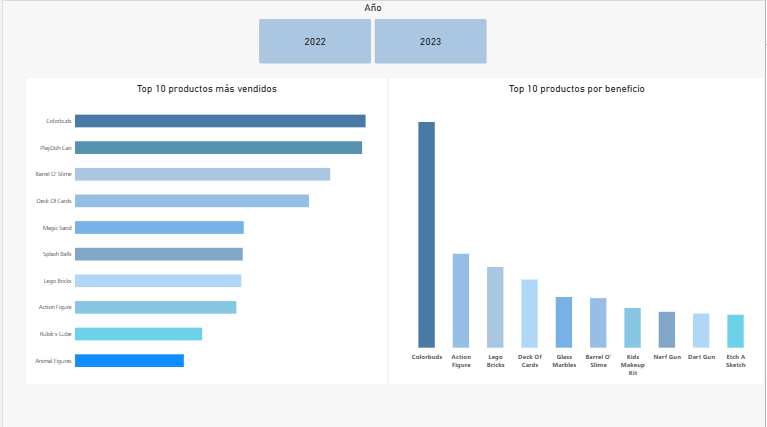

The dashboard page shown, as its layout file describes it:
{"tool":"powerbi","page":{"name":"Producto","canvas":[1920,1080],"ordinal":2},"visuals":[{"type":"barChart","title":"Top 10 productos más vendidos","fields":{"Category":["dataset_final.Product_Name"],"Y":["Sum(dataset_final.Units)"]},"box":[55.4,191.5,914.6,776.1],"z":0},{"type":"advancedSlicerVisual","fields":{"Values":["dataset_final.Año"]},"box":[645,0,574.5,158.7],"z":1},{"type":"columnChart","title":"Top 10 productos por beneficio","fields":{"Category":["dataset_final.Product_Name"],"Y":["Sum(dataset_final.Profit)"]},"box":[970.1,191.5,949.9,776.1],"z":2}]}

Visuals, with their boxes in screenshot pixels (x1, y1, x2, y2), scaled from the page's 1920x1080 canvas onto the 767x427 screenshot:
"Top 10 productos más vendidos" barChart: {"left": 22, "top": 76, "right": 387, "bottom": 383}
advancedSlicerVisual - dataset_final.Año: {"left": 258, "top": 0, "right": 487, "bottom": 63}
"Top 10 productos por beneficio" columnChart: {"left": 388, "top": 76, "right": 766, "bottom": 383}
